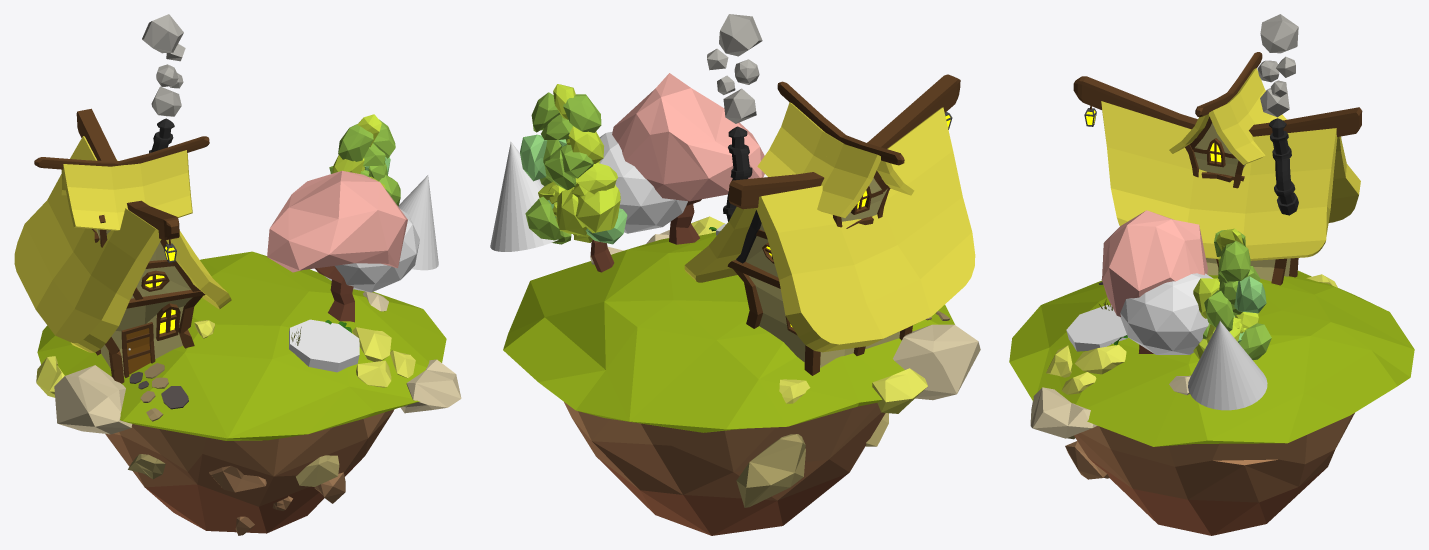
File: Landscape.fbx
The picture shows the model from 3 angles, left to right: view 1: azimuth 30°, elevation 25°; view 2: azimuth 150°, elevation 25°; view 3: azimuth 270°, elevation 25°; orthographic projection. The views are drawn at different scales.
Visible parts, largest first — view 1: Cylinder.002, Cylinder, Cube.002, Icosphere.024, Cube.003, Icosphere.041, Cube, Cylinder.007, Icosphere, Cube.004, Icosphere.027, Cylinder.005 (+16 smaller); view 2: Cylinder.002, Cube.002, Cylinder, Icosphere.024, Cube.003, Icosphere.041, Cube.004, Icosphere, Cylinder.005, Icosphere.045, Cube, Cube.005 (+21 smaller); view 3: Cylinder.002, Cube.002, Cylinder, Icosphere.024, Icosphere, Cylinder.005, Cube.004, Cube.003, Icosphere.027, Cylinder.007, Cylinder.003, Icosphere.055 (+13 smaller).
Part boxes in pixels (x1=…): Cylinder.002: x1=37, y1=251, x2=446, y2=440; Cylinder: x1=105, y1=409, x2=394, y2=533; Cube.002: x1=14, y1=136, x2=231, y2=352; Icosphere.024: x1=267, y1=170, x2=407, y2=272; Cube.003: x1=61, y1=150, x2=192, y2=230; Icosphere.041: x1=54, y1=365, x2=132, y2=434; Cube: x1=100, y1=242, x2=192, y2=375; Cylinder.007: x1=289, y1=319, x2=359, y2=372; Icosphere: x1=325, y1=209, x2=419, y2=292; Cube.004: x1=76, y1=108, x2=179, y2=240; Icosphere.027: x1=400, y1=359, x2=461, y2=413; Cylinder.005: x1=398, y1=175, x2=438, y2=270; Cylinder.002: x1=503, y1=232, x2=954, y2=432; Cube.002: x1=684, y1=107, x2=975, y2=352; Cylinder: x1=564, y1=402, x2=885, y2=535; Icosphere.024: x1=612, y1=73, x2=764, y2=201; Cube.003: x1=757, y1=102, x2=914, y2=217; Icosphere.041: x1=893, y1=324, x2=980, y2=400; Cube.004: x1=728, y1=74, x2=960, y2=209; Icosphere: x1=599, y1=131, x2=687, y2=233; Cylinder.005: x1=490, y1=142, x2=558, y2=251; Icosphere.045: x1=736, y1=434, x2=805, y2=507; Cube: x1=745, y1=223, x2=899, y2=367; Cube.005: x1=777, y1=81, x2=904, y2=165; Cylinder.002: x1=1009, y1=270, x2=1414, y2=446; Cube.002: x1=1101, y1=101, x2=1360, y2=260; Cylinder: x1=1074, y1=413, x2=1354, y2=535; Icosphere.024: x1=1102, y1=210, x2=1207, y2=316; Icosphere: x1=1120, y1=273, x2=1213, y2=354; Cylinder.005: x1=1188, y1=321, x2=1267, y2=410; Cube.004: x1=1073, y1=76, x2=1362, y2=136; Cube.003: x1=1169, y1=68, x2=1286, y2=164; Icosphere.027: x1=1030, y1=387, x2=1097, y2=438; Cylinder.007: x1=1066, y1=305, x2=1127, y2=351; Cylinder.003: x1=1269, y1=118, x2=1298, y2=215; Icosphere.055: x1=1260, y1=14, x2=1298, y2=53.
Size of the model in its own units: 538 by 617 by 485.
